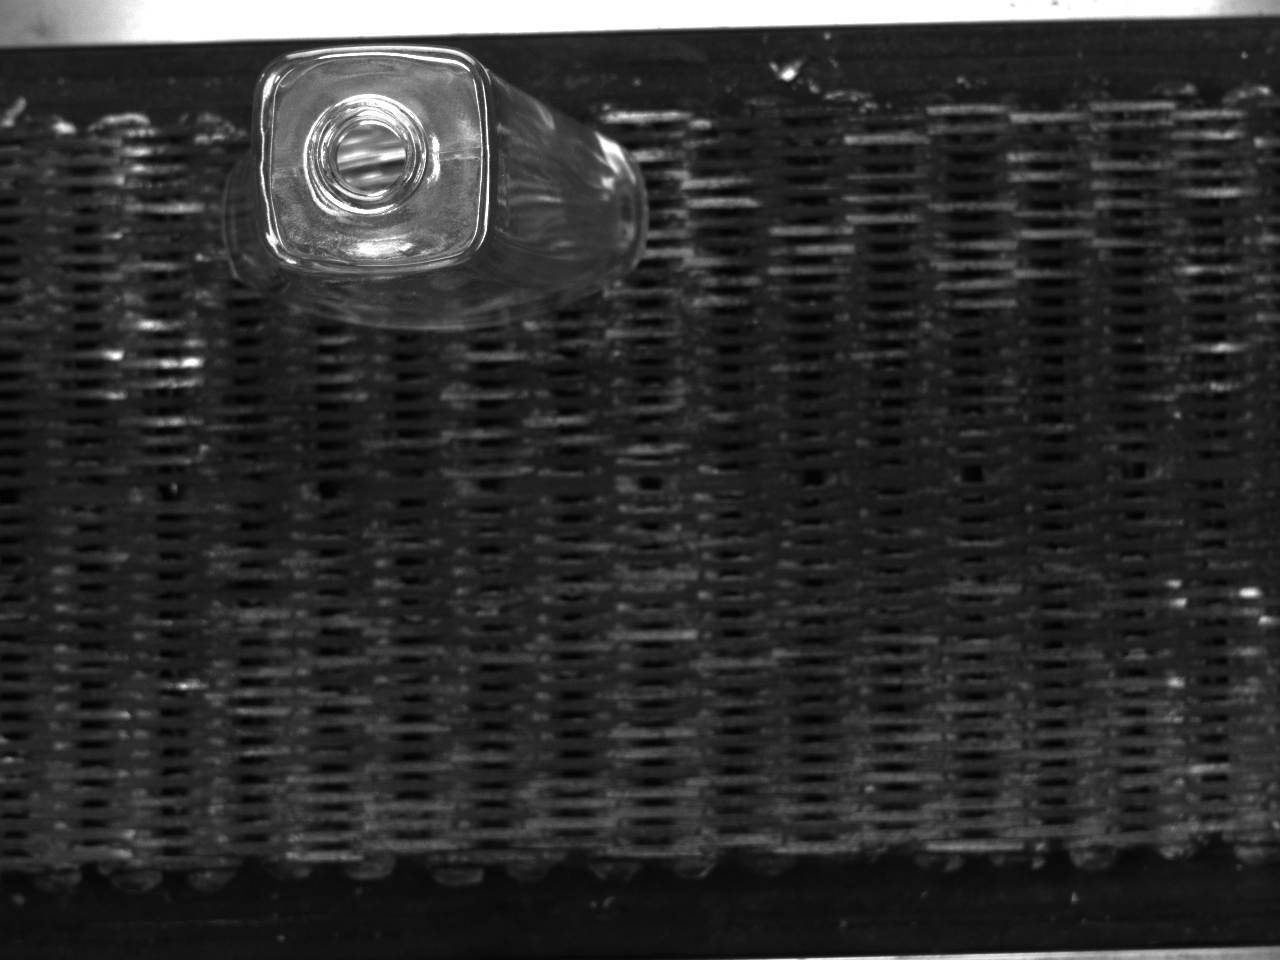bottleneck: (302, 94, 427, 215)
